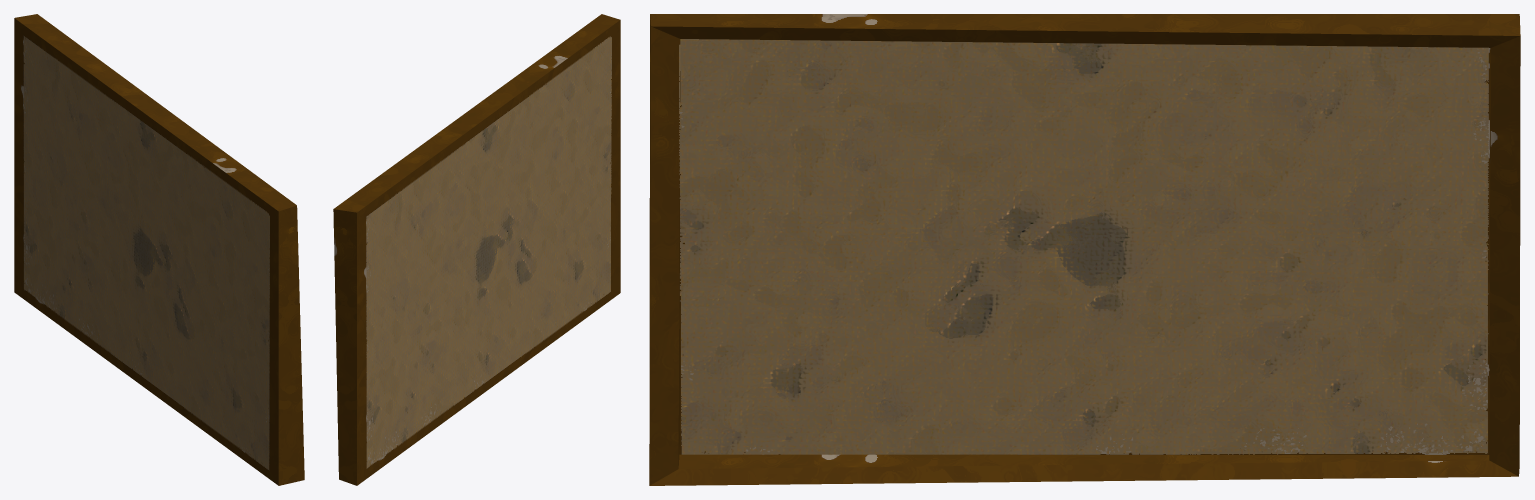
File: board.fbx
3 renders of one model, left to right at view 1: azimuth 30°, elevation 25°; view 2: azimuth 150°, elevation 25°; view 3: azimuth 270°, elevation 25°, orthographic. The views are drawn at different scales.
Visible parts, largest first — view 1: board; view 2: board; view 3: board.
Part boxes in pixels (left/top/right/bottom): board: left=14, top=14, right=304, bottom=485; board: left=333, top=14, right=620, bottom=485; board: left=649, top=14, right=1520, bottom=485.
Bounding box in the file's own units: 108 × 1107 × 1926.
Materials: 1 (1 with a texture image).
